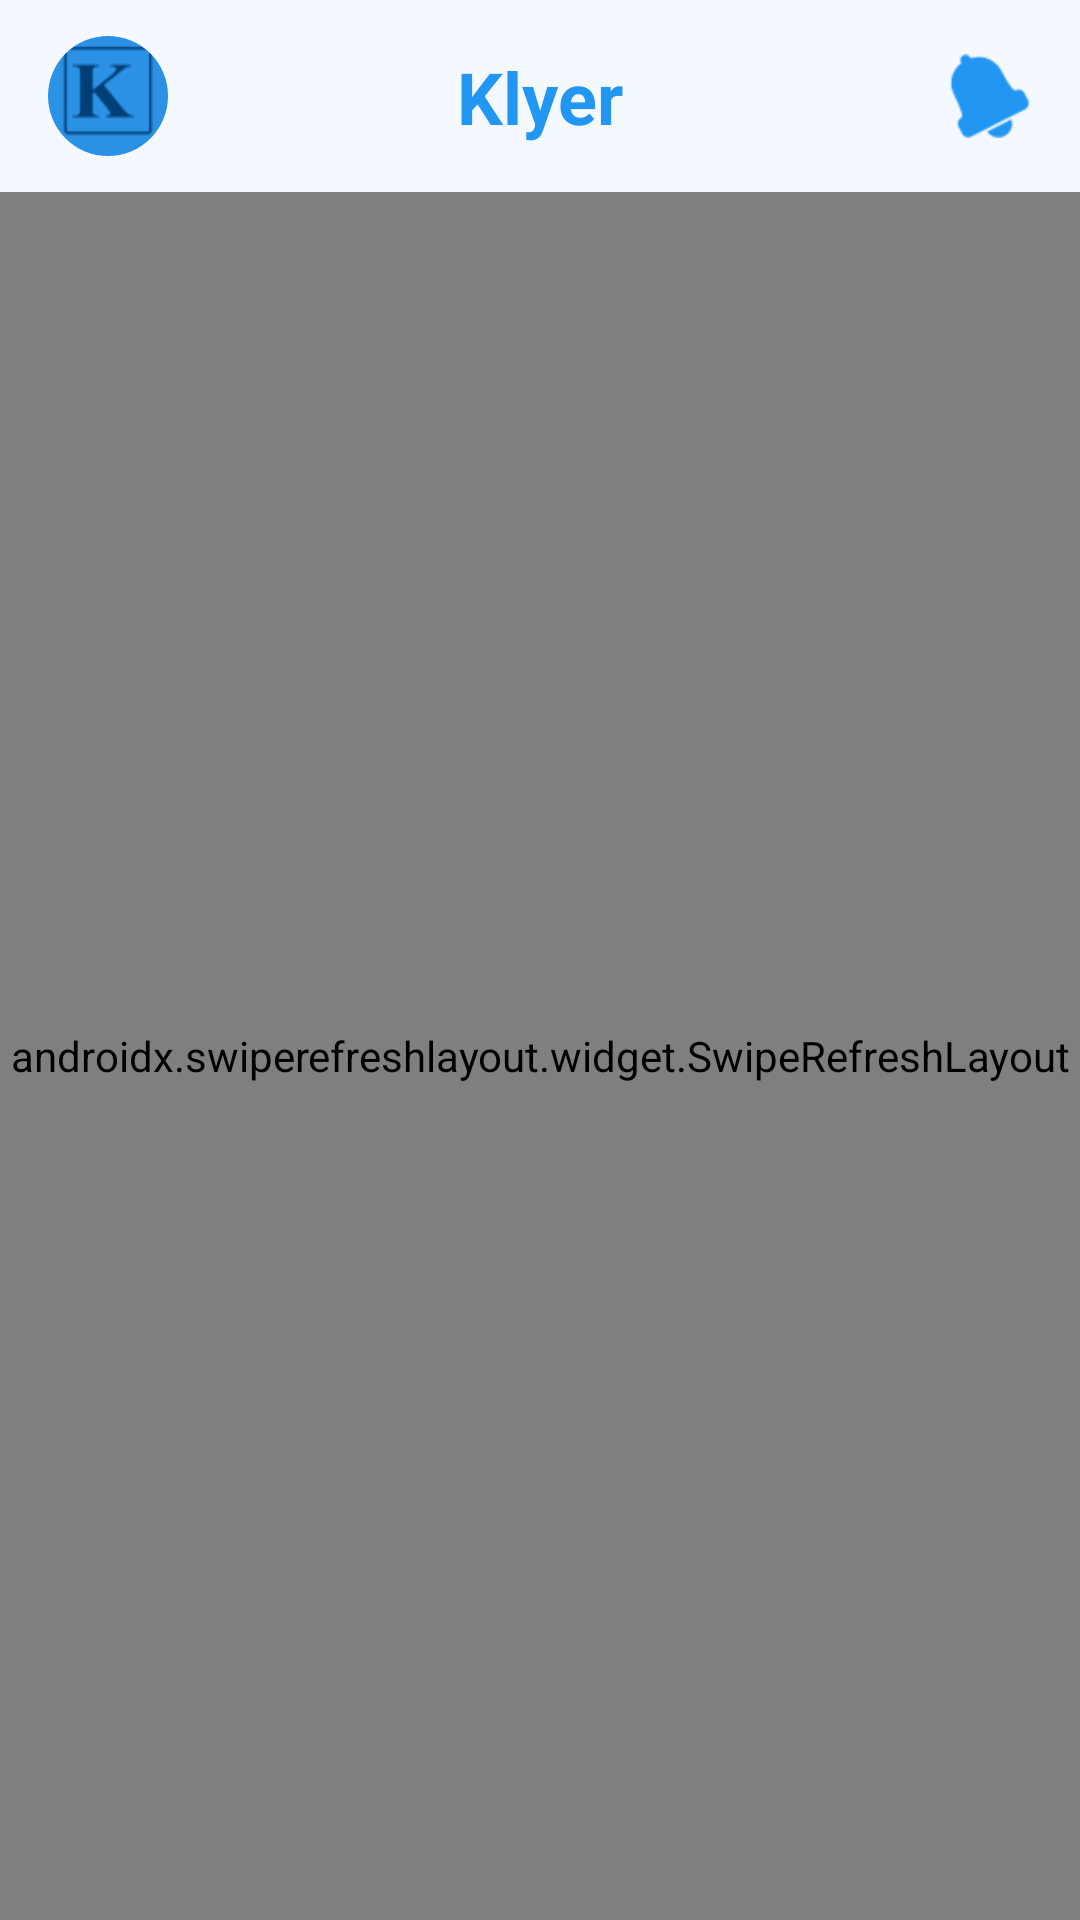

Screen size 1080 × 1920. Icon name, then its box in pixels as (x1, y1, x2, y2):
popup reminder: (950, 54, 1030, 138)
